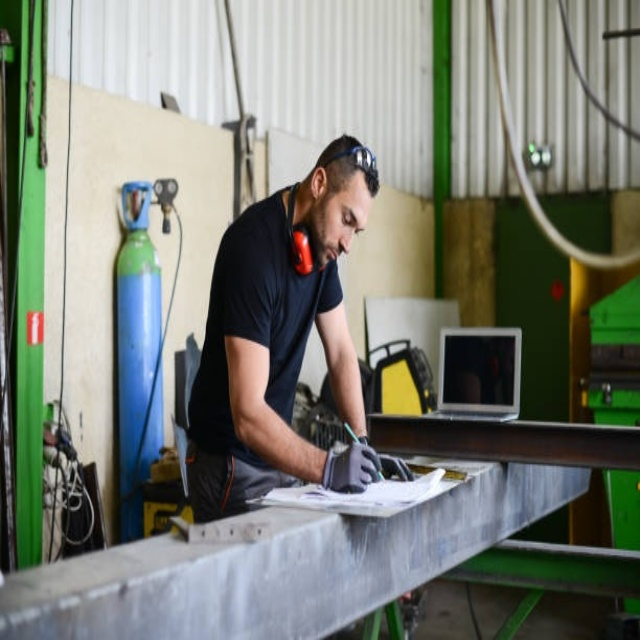Guantes: (322, 441, 381, 494), (378, 453, 417, 482)
Sin_gafas: (336, 199, 367, 238)
Sin_mascara: (319, 237, 342, 270)
